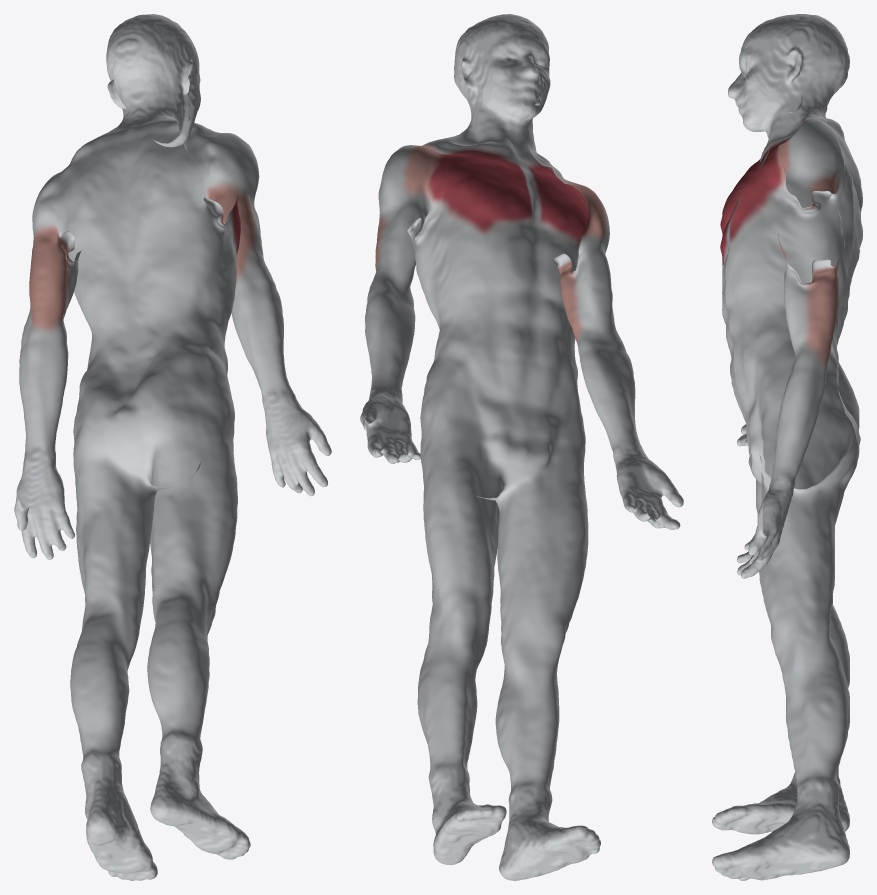
File: fitness-surface.glb
The picture shows the model from 3 angles, left to right: view 1: azimuth 30°, elevation 25°; view 2: azimuth 150°, elevation 25°; view 3: azimuth 270°, elevation 25°; orthographic projection.
Visible parts, largest first — view 1: Fitted muscle envelope; view 2: Fitted muscle envelope; view 3: Fitted muscle envelope.
Boxes of the visible parts, x1,y1,x2,y2 form: Fitted muscle envelope: (14,14,331,880); Fitted muscle envelope: (360,14,683,880); Fitted muscle envelope: (712,14,862,880).
Size of the model in its own units: 0.6819 by 1.71 by 0.2817.
